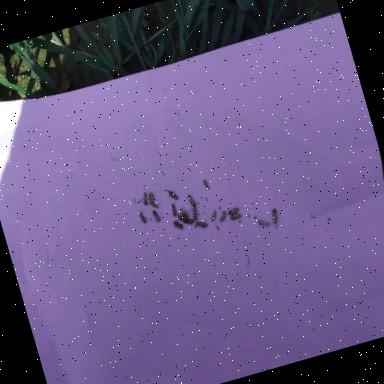pbw: (267, 207, 281, 227), (137, 206, 149, 226), (150, 207, 162, 225), (140, 188, 152, 206), (216, 209, 230, 224), (187, 192, 200, 208), (196, 218, 210, 231), (190, 204, 201, 220), (167, 188, 179, 202), (148, 198, 160, 211), (258, 216, 270, 228), (228, 205, 241, 216), (174, 218, 184, 232), (168, 202, 178, 216), (208, 210, 219, 222), (180, 206, 190, 219), (182, 216, 195, 226), (202, 178, 210, 191), (149, 191, 156, 205), (230, 213, 242, 220), (176, 210, 186, 218)
